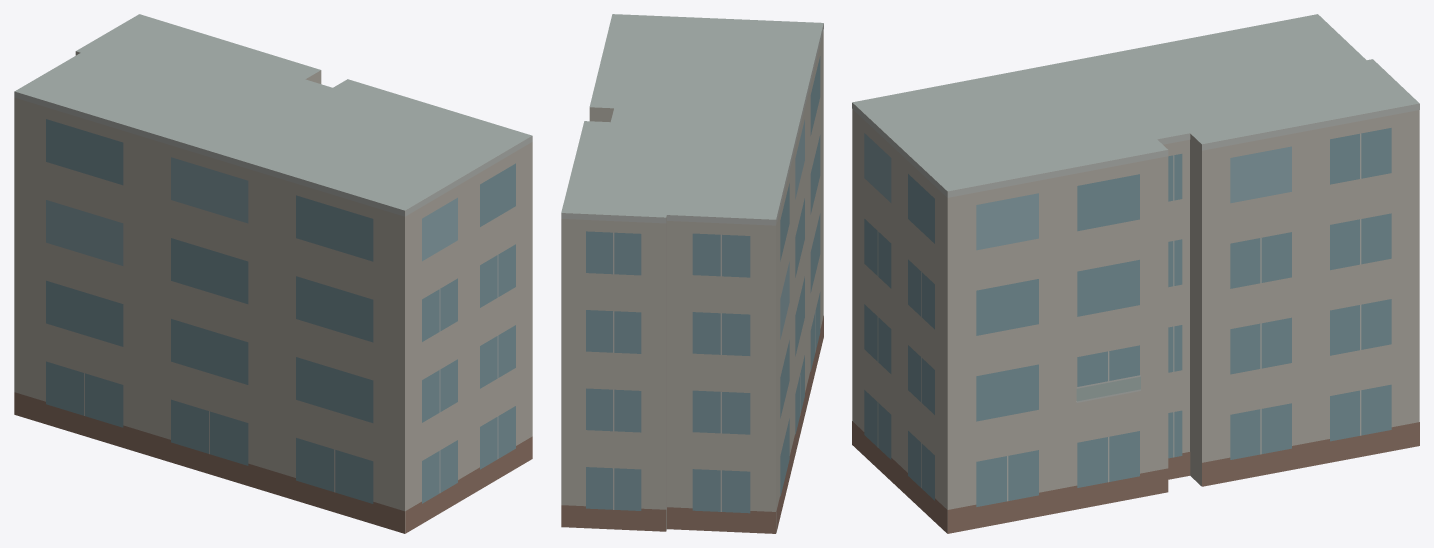
File: survey-upis-32748332.glb
The picture shows the model from 3 angles, left to right: view 1: azimuth 30°, elevation 25°; view 2: azimuth 150°, elevation 25°; view 3: azimuth 270°, elevation 25°; orthographic projection. The views are drawn at different scales.
Visible parts, largest first — view 1: survey-upis-32748332.tmp; view 2: survey-upis-32748332.tmp; view 3: survey-upis-32748332.tmp.
Boxes of the visible parts, x1,y1,x2,y2 form: survey-upis-32748332.tmp: (14, 14, 532, 533); survey-upis-32748332.tmp: (561, 14, 823, 533); survey-upis-32748332.tmp: (852, 14, 1419, 533).
Bounding box in the file's own units: 14.46 × 13 × 19.54.
